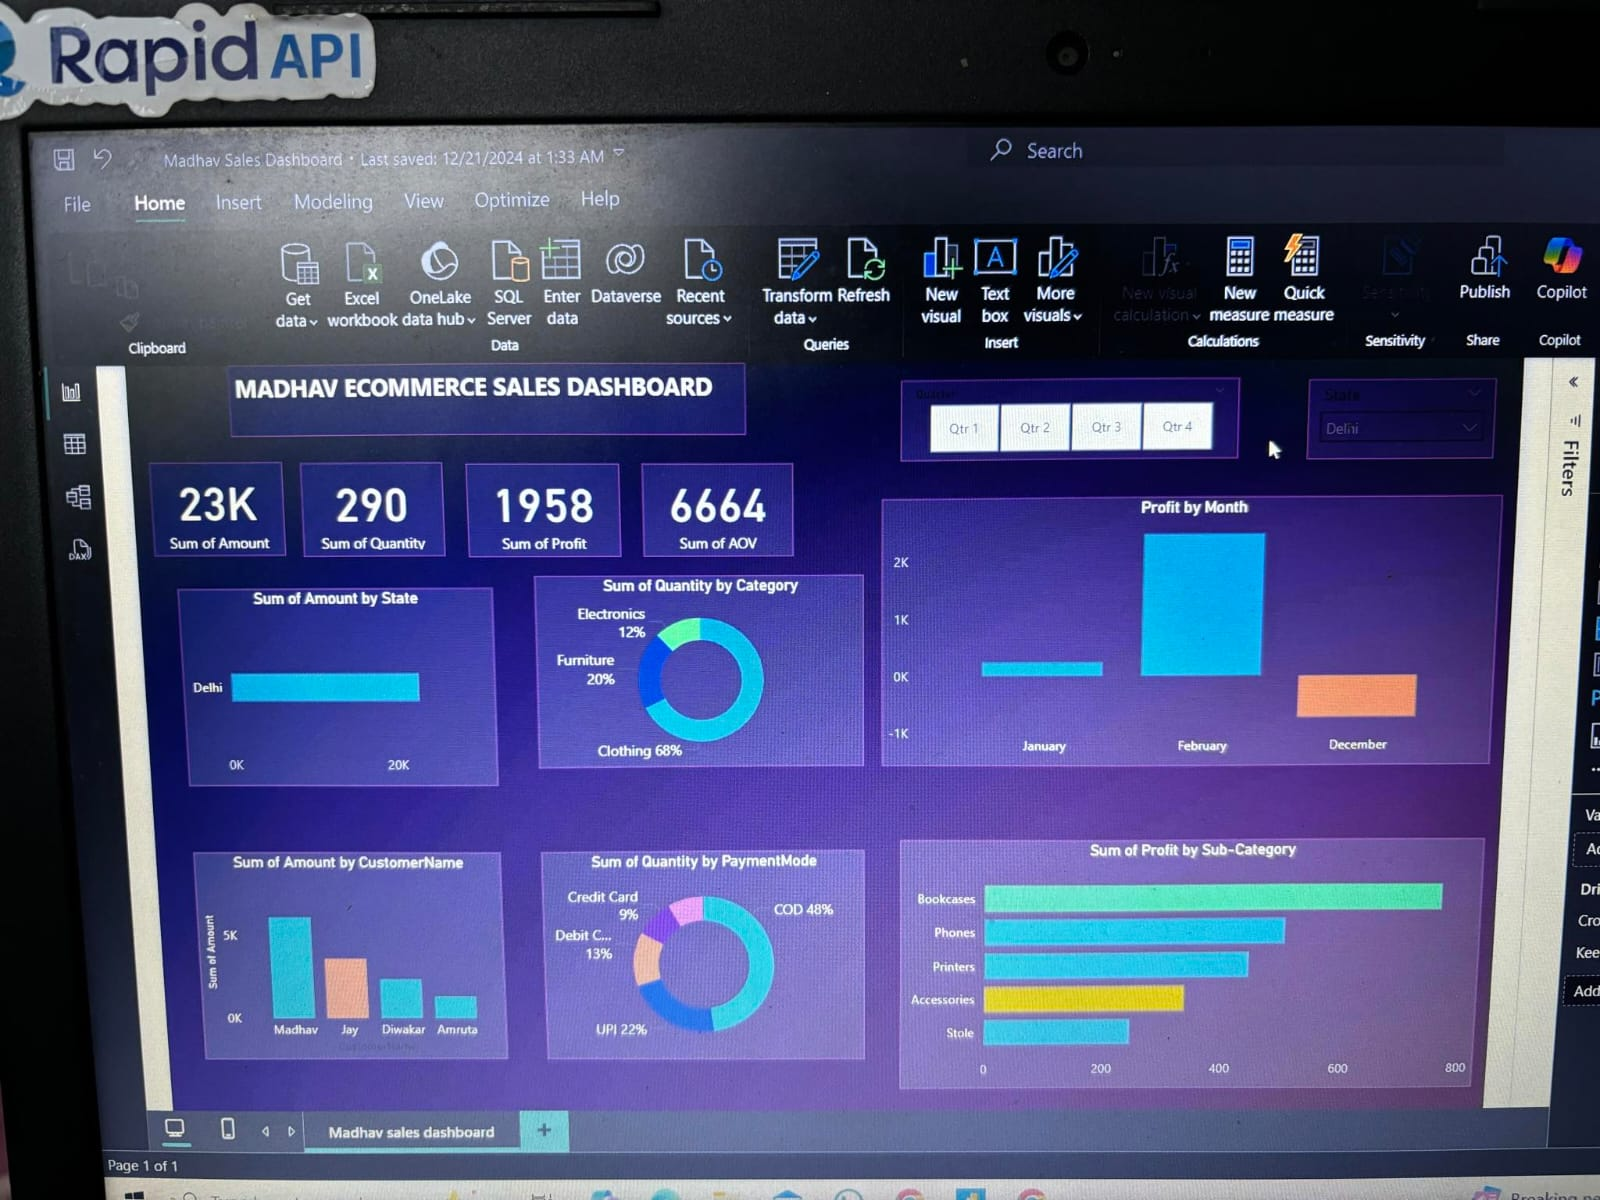

Layout of this report page (visuals, bound fields, positions):
{"tool":"powerbi","page":{"name":"Madhav sales dashboard","canvas":[1280,720],"ordinal":0},"visuals":[{"type":"textbox","box":[94.7,0,474.8,64.5],"z":0},{"type":"columnChart","title":"Profit by Month","fields":{"Y":["Sum(Details.Profit)"],"Category":["Orders.Order Date.Variation.Date Hierarchy.Month"]},"box":[694.3,124.9,572.2,252.5],"z":1000},{"type":"barChart","fields":{"Category":["Details.Sub-Category"],"Y":["Sum(Details.Profit)"]},"box":[711.8,449.1,554.4,248.2],"z":2000},{"type":"donutChart","fields":{"Category":["Details.Category"],"Y":["Sum(Details.Quantity)"]},"box":[370.5,194.9,307.4,182.5],"z":3000},{"type":"donutChart","fields":{"Y":["Sum(Details.Quantity)"],"Category":["Details.PaymentMode"]},"box":[370.4,458.8,307.5,207],"z":4000},{"type":"card","fields":{"Values":["Sum(Details.Amount)"]},"box":[16.5,87.8,123.5,86.4],"z":5000},{"type":"card","fields":{"Values":["Sum(Details.Quantity)"]},"box":[157.8,89.2,131.7,86.4],"z":6000},{"type":"card","fields":{"Values":["Sum(Details.Profit)"]},"box":[311.5,90.6,140,86.4],"z":7000},{"type":"card","fields":{"Values":["Sum(Details.AOV)"]},"box":[472,90.6,140,86.4],"z":8000},{"type":"barChart","fields":{"Category":["Orders.State"],"Y":["Sum(Details.Amount)"]},"box":[36.3,205.8,295.4,187.6],"z":9000},{"type":"columnChart","fields":{"Category":["Orders.CustomerName"],"Y":["Sum(Details.Amount)"]},"box":[36.3,458.8,295.4,207],"z":10000},{"type":"slicer","fields":{"Values":["Orders.Order Date.Variation.Date Hierarchy.Quarter"]},"box":[712.2,16.5,308.7,72.7],"z":11000},{"type":"slicer","fields":{"Values":["Orders.State"]},"box":[1084.1,17.8,171.5,72.7],"z":12000}]}

Visuals, with their boxes on the page's 1280x720 design canvas (x1, y1, x2, y2). These are canvas units, not pixel positions in the 1600x1200 screenshot, which may show the page scaled, cropped or inside an application window:
textbox: {"left": 95, "top": 0, "right": 570, "bottom": 64}
"Profit by Month" columnChart: {"left": 694, "top": 125, "right": 1266, "bottom": 377}
barChart - Details.Sub-Category x Sum(Details.Profit): {"left": 712, "top": 449, "right": 1266, "bottom": 697}
donutChart - Details.Category x Sum(Details.Quantity): {"left": 370, "top": 195, "right": 678, "bottom": 377}
donutChart - Sum(Details.Quantity) x Details.PaymentMode: {"left": 370, "top": 459, "right": 678, "bottom": 666}
card - Sum(Details.Amount): {"left": 16, "top": 88, "right": 140, "bottom": 174}
card - Sum(Details.Quantity): {"left": 158, "top": 89, "right": 290, "bottom": 176}
card - Sum(Details.Profit): {"left": 312, "top": 91, "right": 452, "bottom": 177}
card - Sum(Details.AOV): {"left": 472, "top": 91, "right": 612, "bottom": 177}
barChart - Orders.State x Sum(Details.Amount): {"left": 36, "top": 206, "right": 332, "bottom": 393}
columnChart - Orders.CustomerName x Sum(Details.Amount): {"left": 36, "top": 459, "right": 332, "bottom": 666}
slicer - Orders.Order Date.Variation.Date Hierarchy.Quarter: {"left": 712, "top": 16, "right": 1021, "bottom": 89}
slicer - Orders.State: {"left": 1084, "top": 18, "right": 1256, "bottom": 90}
